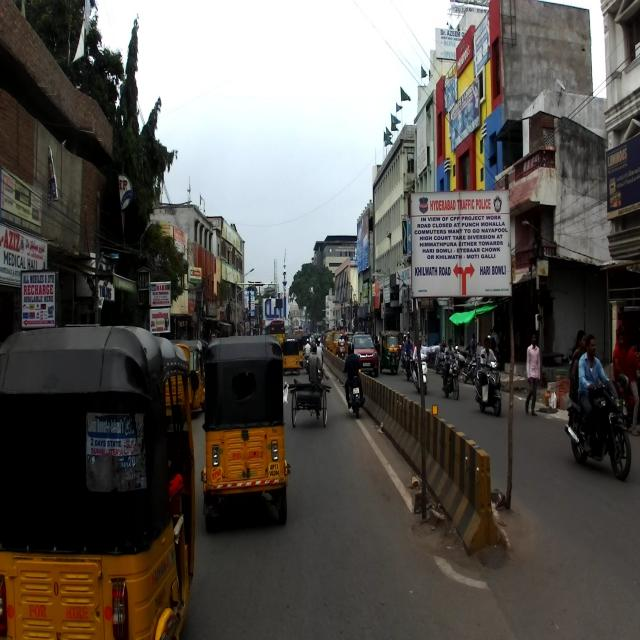autorickshaw: (0, 323, 199, 639), (199, 336, 291, 532)
car: (349, 332, 379, 376)
motorcycle: (564, 378, 631, 481)
scooter: (474, 353, 502, 417)
